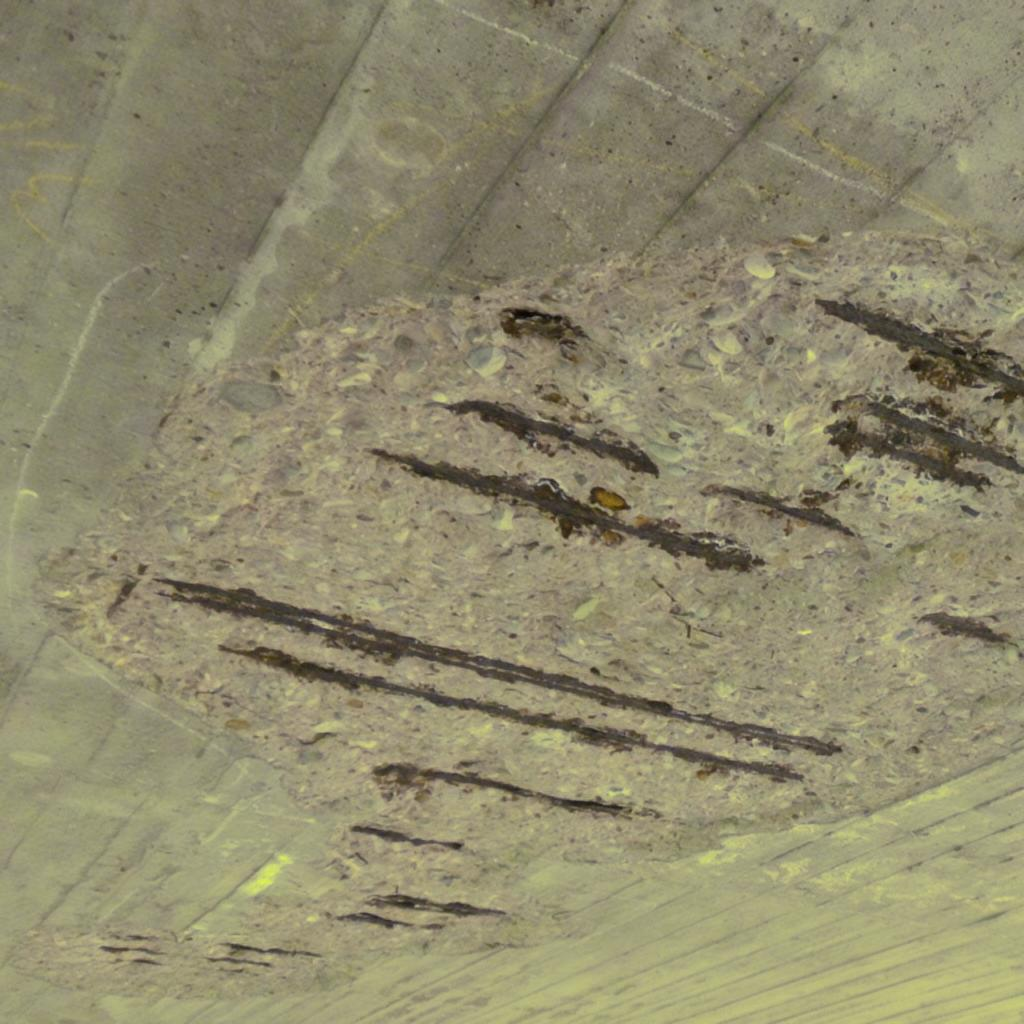exposed_rebar: (156, 578, 840, 755), (220, 645, 802, 781), (372, 448, 764, 571), (816, 301, 1024, 401), (826, 394, 1024, 489), (426, 400, 658, 475), (372, 762, 634, 815), (702, 484, 856, 536), (500, 308, 588, 344), (368, 894, 506, 916), (918, 612, 1012, 644), (350, 824, 464, 849), (222, 943, 321, 957), (338, 912, 414, 927), (206, 956, 270, 967), (100, 946, 162, 954), (132, 958, 160, 965), (422, 924, 441, 929)
spalling: (24, 232, 1024, 994)
